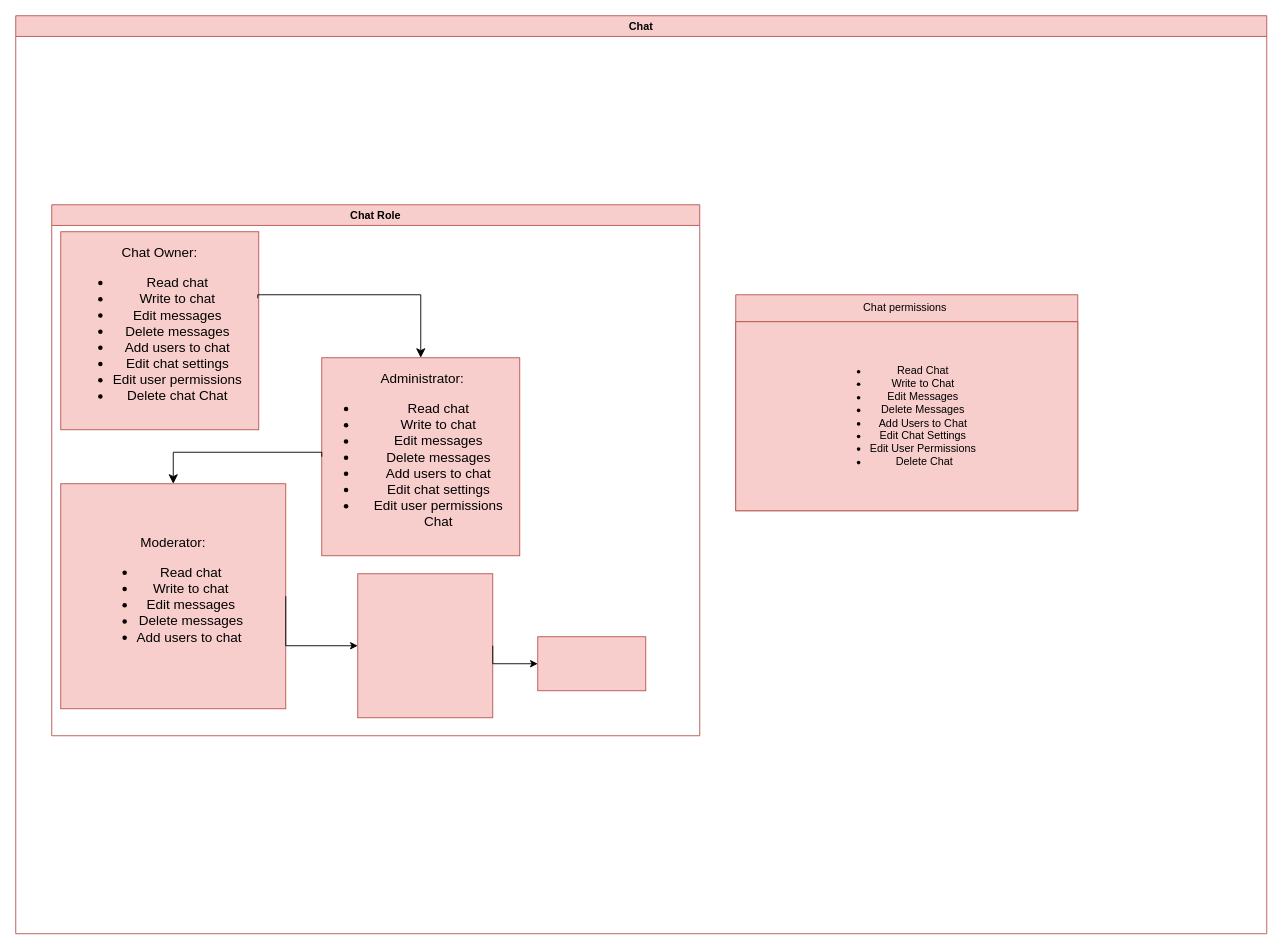
Image size: 1283x950. Some labels were removed from this diagram. The shapes that lost their labels are listed below. From the top down, each one's centre as x and y in pixels, then its label:
the point at 425,645: Chat Member: Read chat Write to chat
the point at 591,663: Guest Access: Read chat
